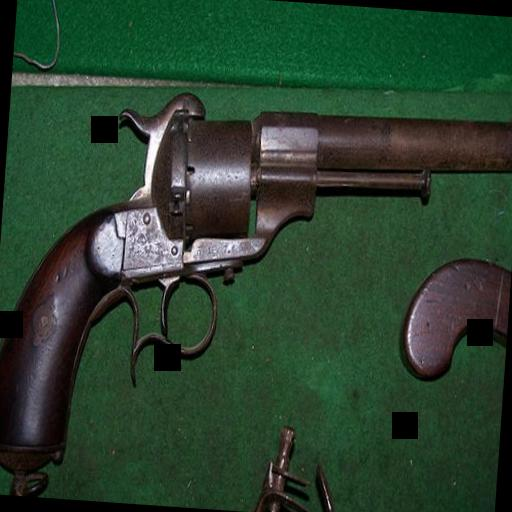Handgun: (0, 74, 512, 495)
